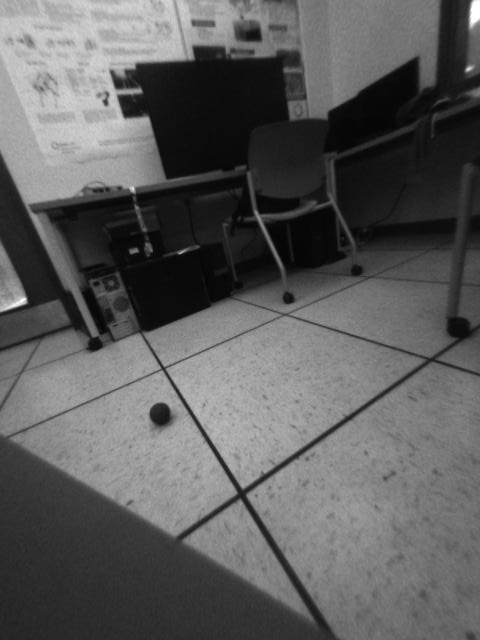dogtoy: (143, 396, 179, 433)
